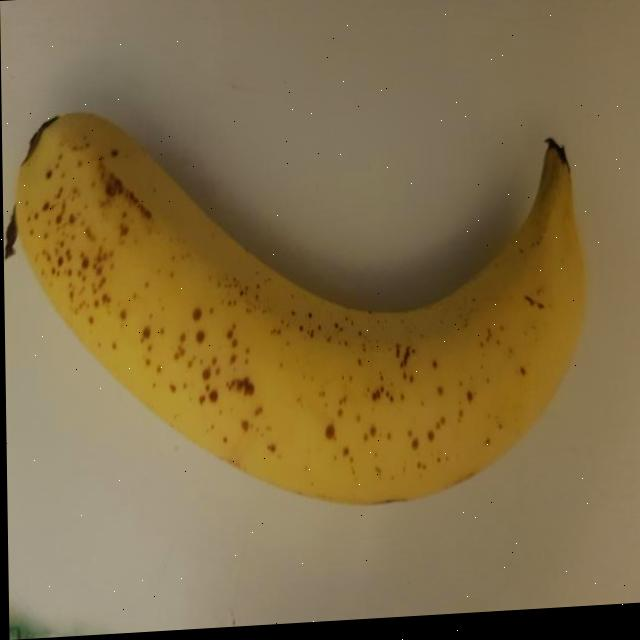banana: (2, 76, 592, 532)
